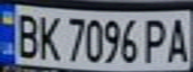0: (81, 15, 106, 64)
6: (118, 16, 145, 64)
7: (63, 14, 84, 63)
9: (103, 16, 124, 64)
A: (163, 13, 193, 64)
B: (9, 9, 42, 60)
K: (33, 11, 63, 62)
P: (139, 15, 172, 64)
